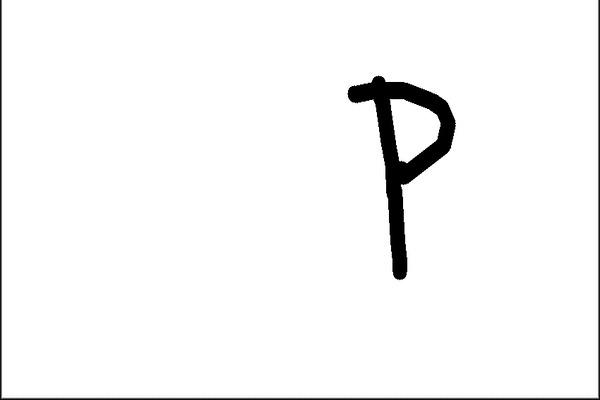P: (331, 57, 466, 286)
